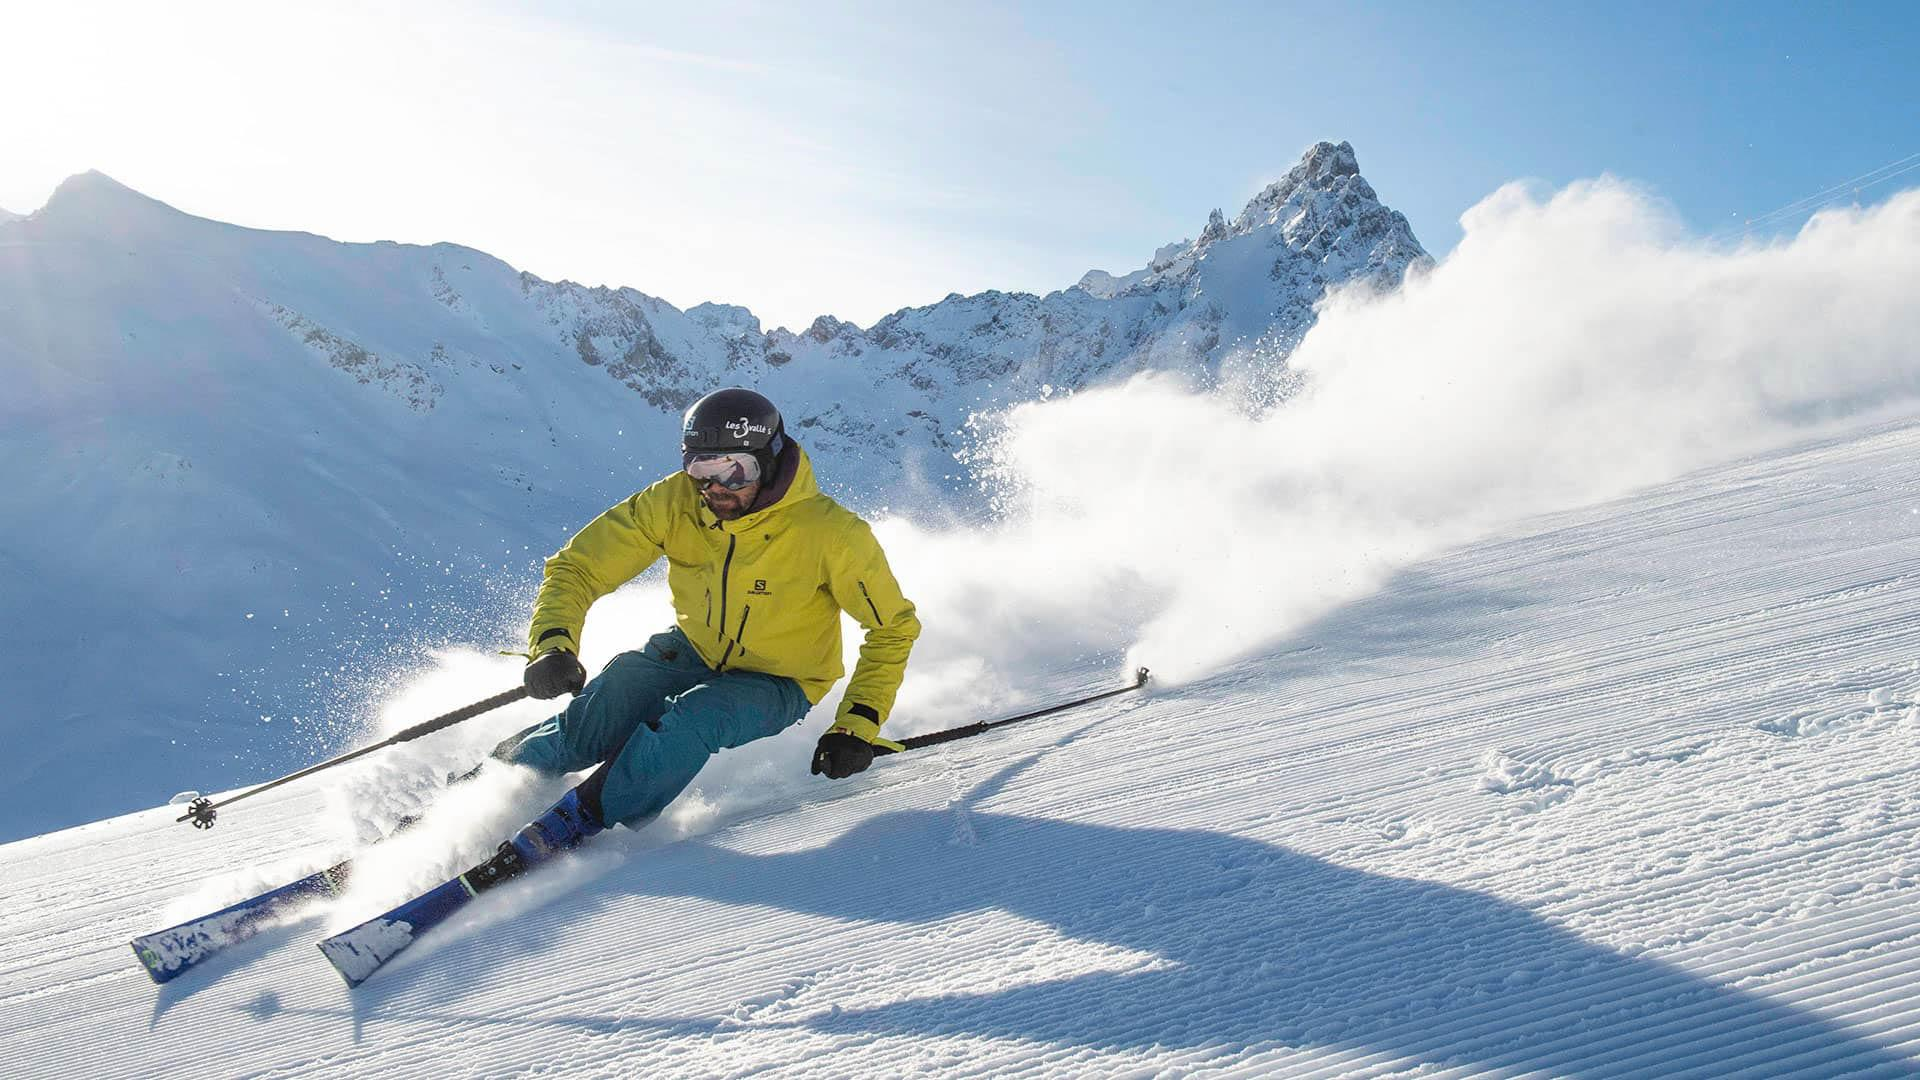skier: (123, 385, 1164, 992)
